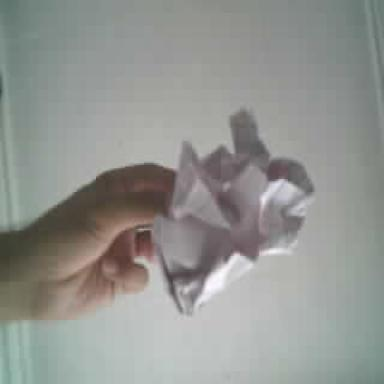paper: (154, 110, 313, 314)
